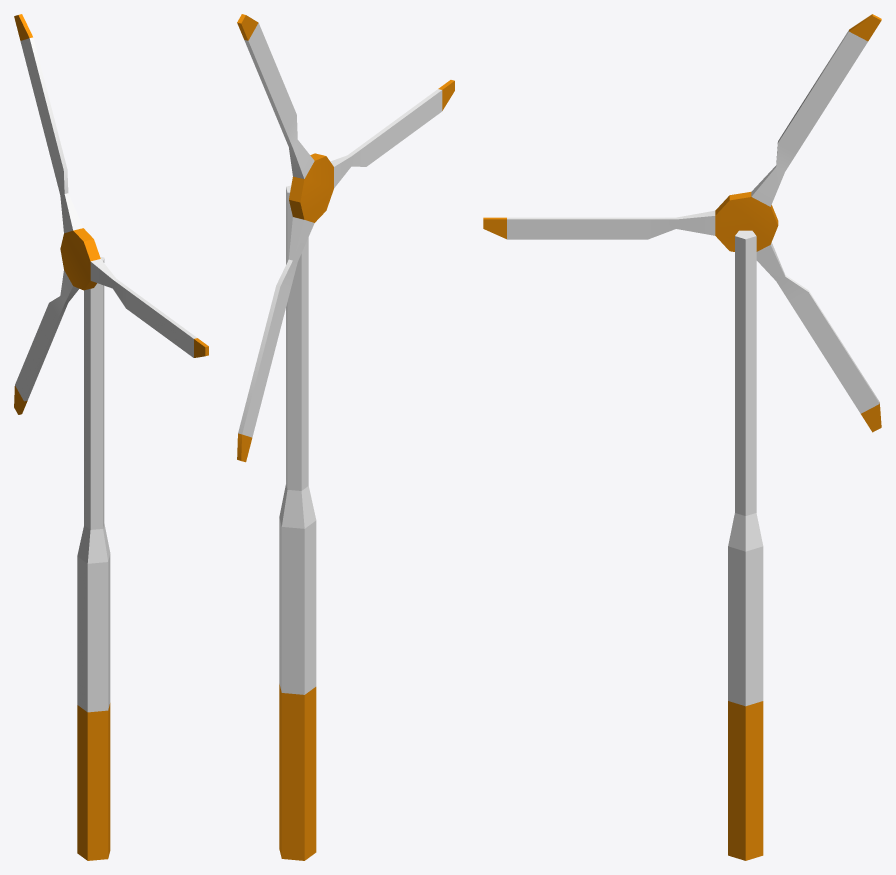
The model's file is WindTurbine.glb.
3 renders of one model, left to right at view 1: azimuth 30°, elevation 25°; view 2: azimuth 150°, elevation 25°; view 3: azimuth 270°, elevation 25°, orthographic. The views are drawn at different scales.
Visible parts, largest first — view 1: Pole, Wheel; view 2: Pole, Wheel; view 3: Pole, Wheel.
Boxes of the visible parts, x1,y1,x2,y2 form: Pole: [77, 256, 110, 860]; Wheel: [14, 14, 208, 414]; Pole: [279, 185, 316, 860]; Wheel: [237, 14, 454, 462]; Pole: [728, 230, 763, 860]; Wheel: [483, 14, 881, 432].
Bounding box in the file's own units: 2.03 × 45.12 × 19.58.
